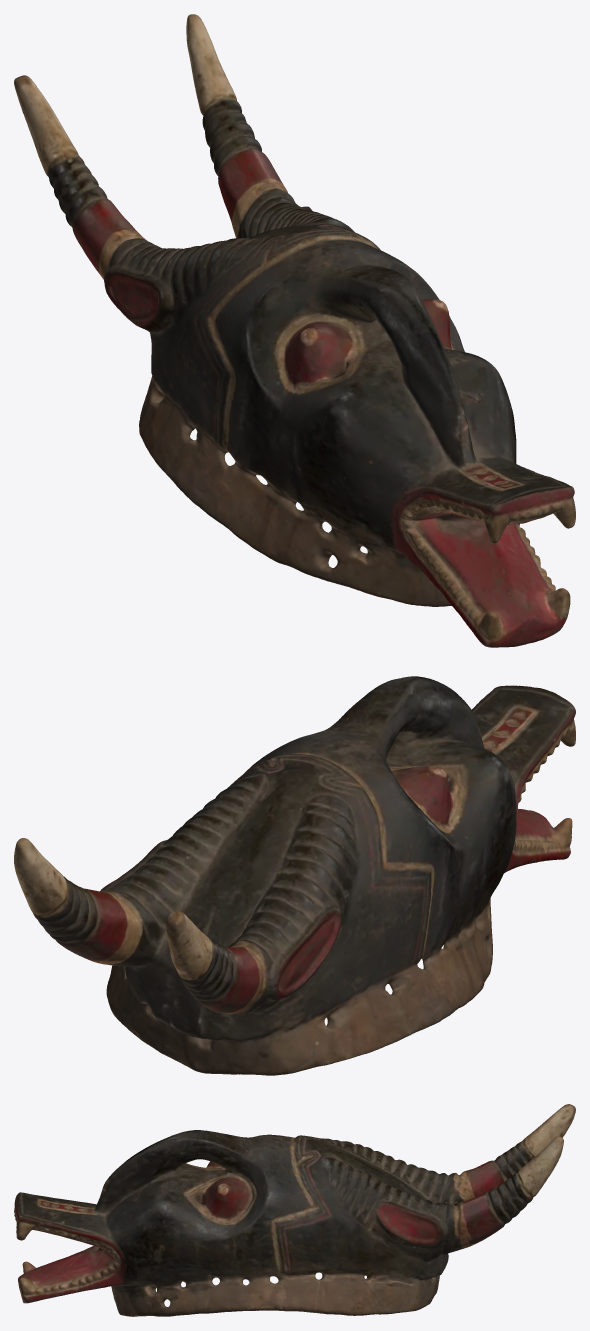
Rendered from preview.glb.
The picture shows the model from 3 angles, top to bottom: view 1: azimuth 30°, elevation 25°; view 2: azimuth 150°, elevation 25°; view 3: azimuth 270°, elevation 25°; orthographic projection. The views are drawn at different scales.
Visible parts, largest first — view 1: Object_2; view 2: Object_2; view 3: Object_2.
Part boxes in pixels (x1,y1,x2,y2): Object_2: (14,14,575,647); Object_2: (14,676,575,1075); Object_2: (14,1104,575,1316).
Size of the model in its own units: 0.1617 by 0.1755 by 0.4488.
1 material, 1 textured.
